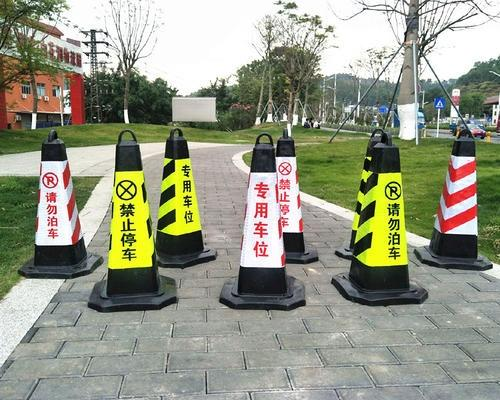cone_barrel: (338, 131, 423, 298), (91, 137, 167, 308), (223, 139, 292, 307), (23, 129, 90, 275), (422, 125, 486, 266), (153, 127, 213, 261), (271, 128, 311, 256)
